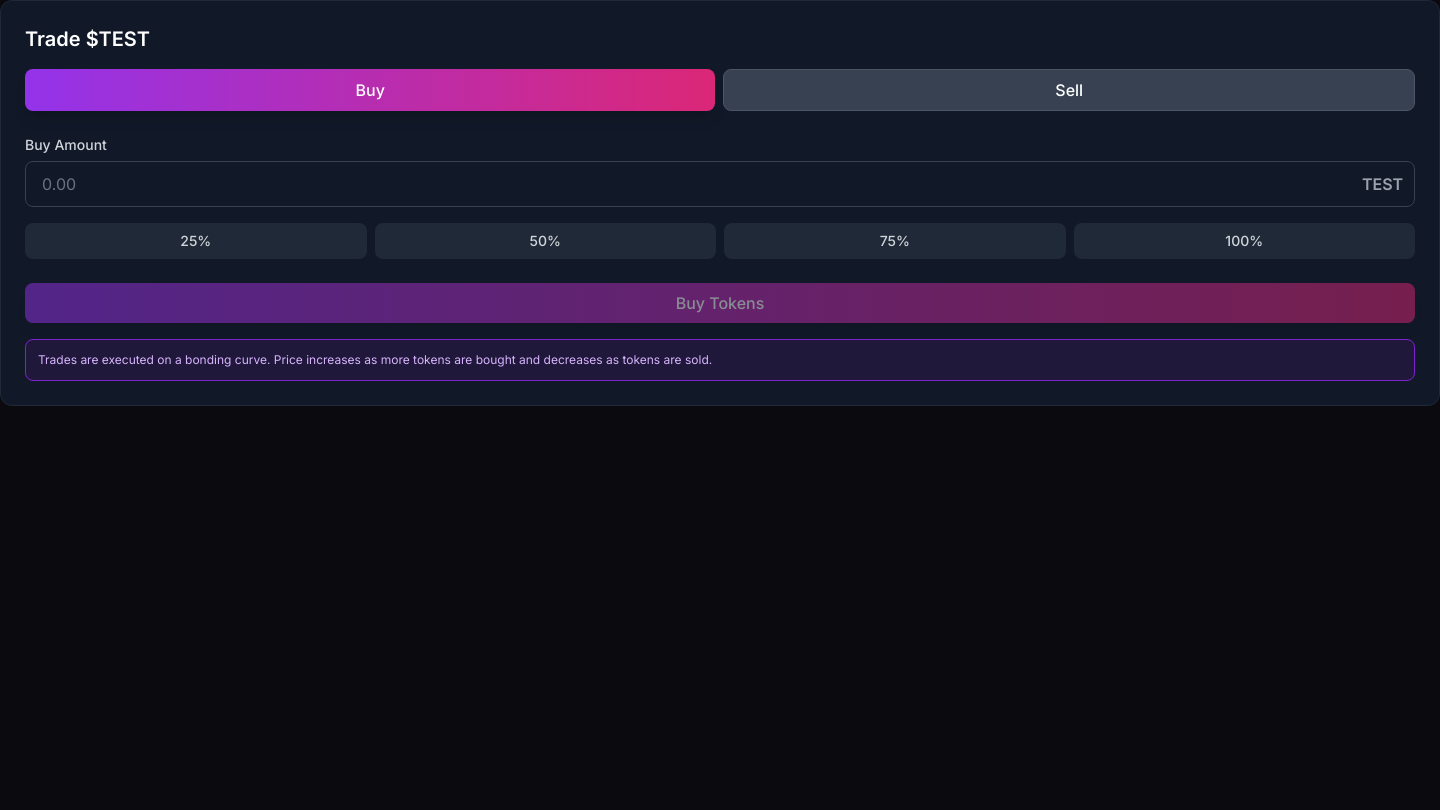
Test case: TradingInterface › Quote Fetching › should clear quote when amount is cleared
Type "1000000" into the number field with placeholder "0.00" at (720, 184), box x1=25 y1=161 x2=1415 y2=207
Wait 500 ms
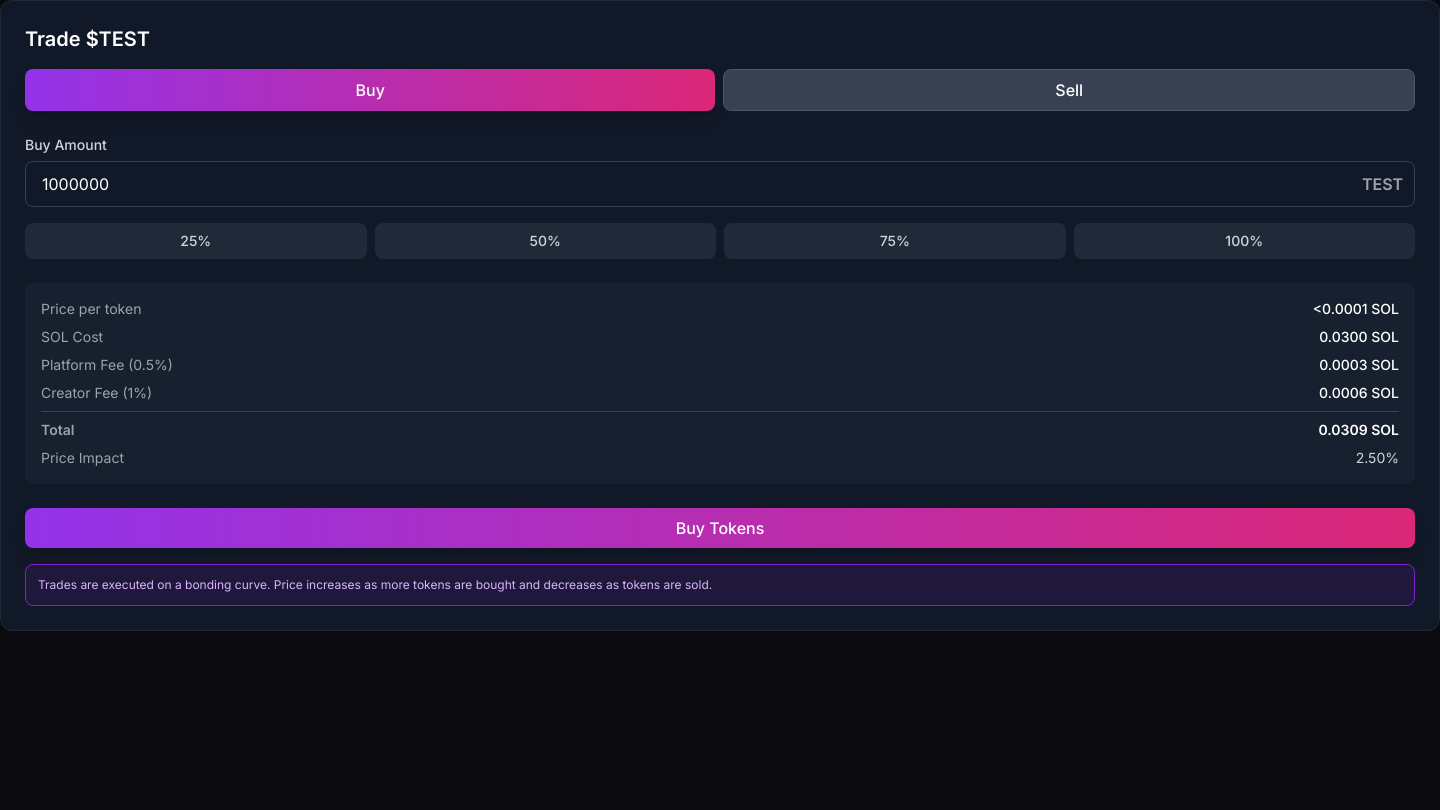
Result: the text "Price per token" is shown at x1=41 y1=299 x2=141 y2=319
Note: Clear amount
Clear the number field with placeholder "0.00" at (720, 184), box x1=25 y1=161 x2=1415 y2=207
Wait 500 ms
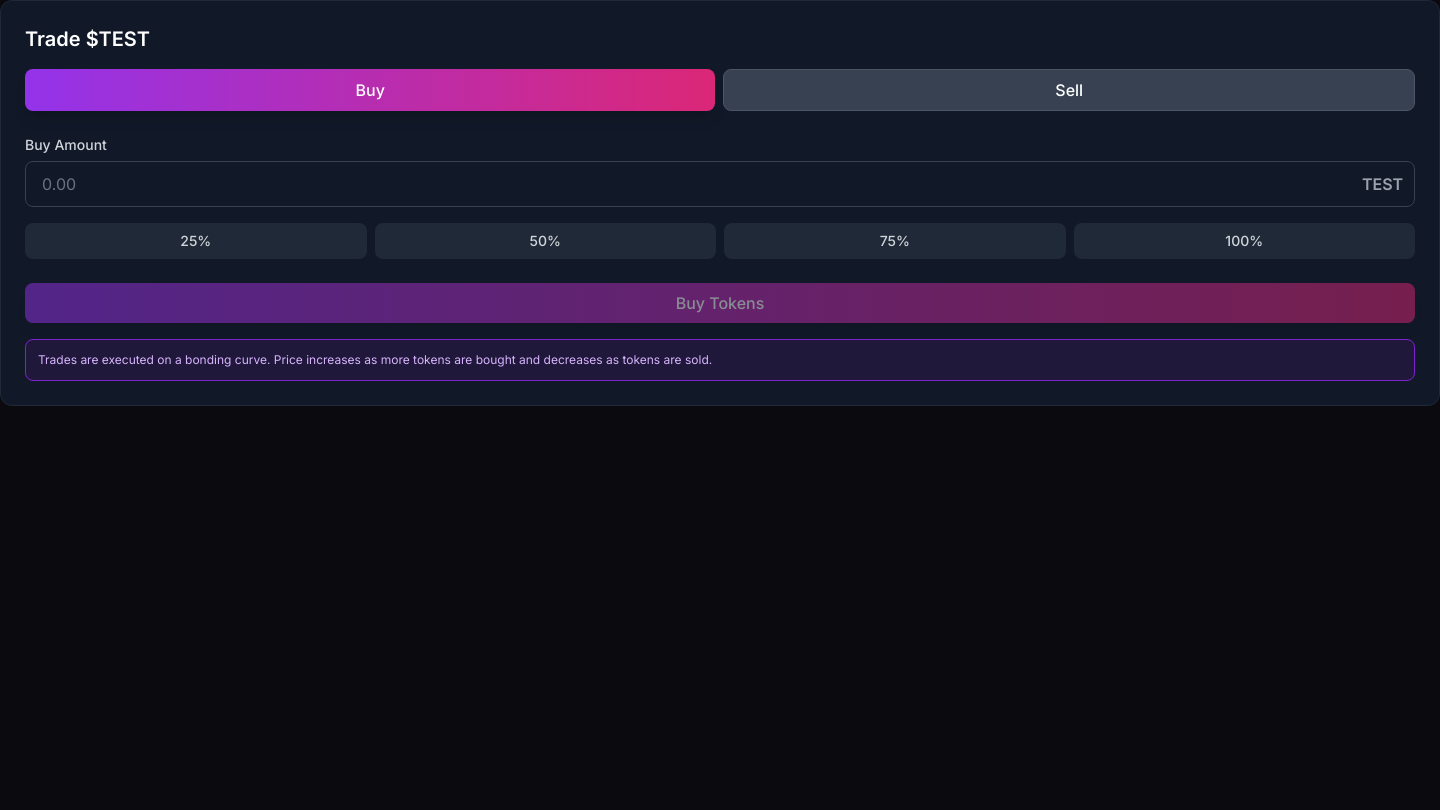
Result: the text "Price per token" is gone
